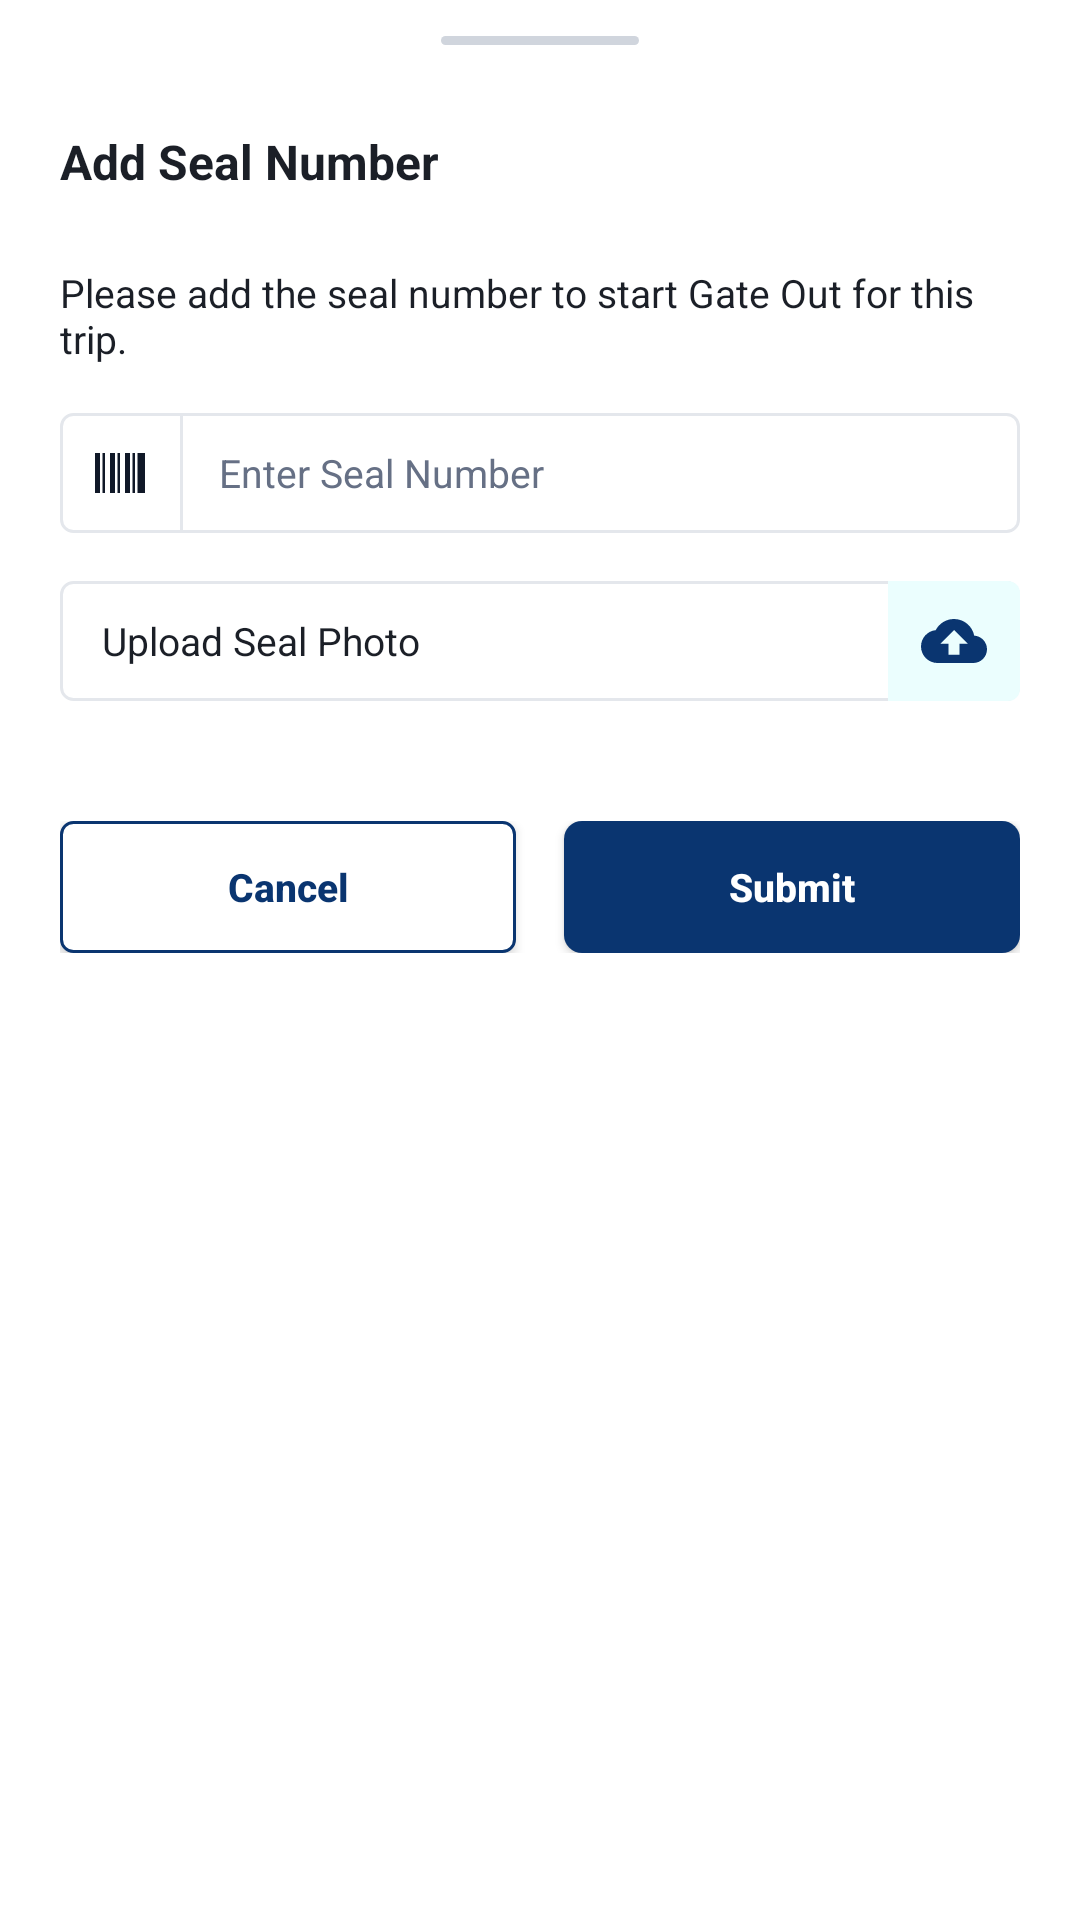

Icons on this 1080px×1920px Android screen, each with its box as (x1, y1, x2, y2):
barcode: (95, 453, 145, 493)
cloud upload: (921, 619, 987, 663)
